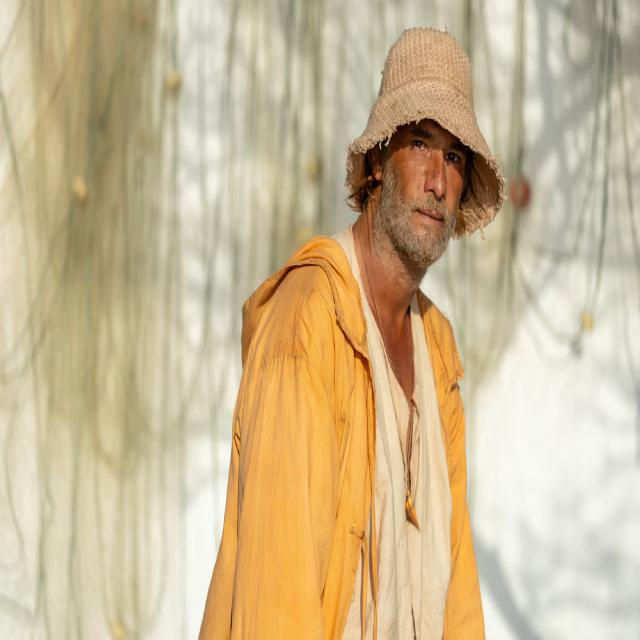sem_oculos: (360, 113, 482, 183)
